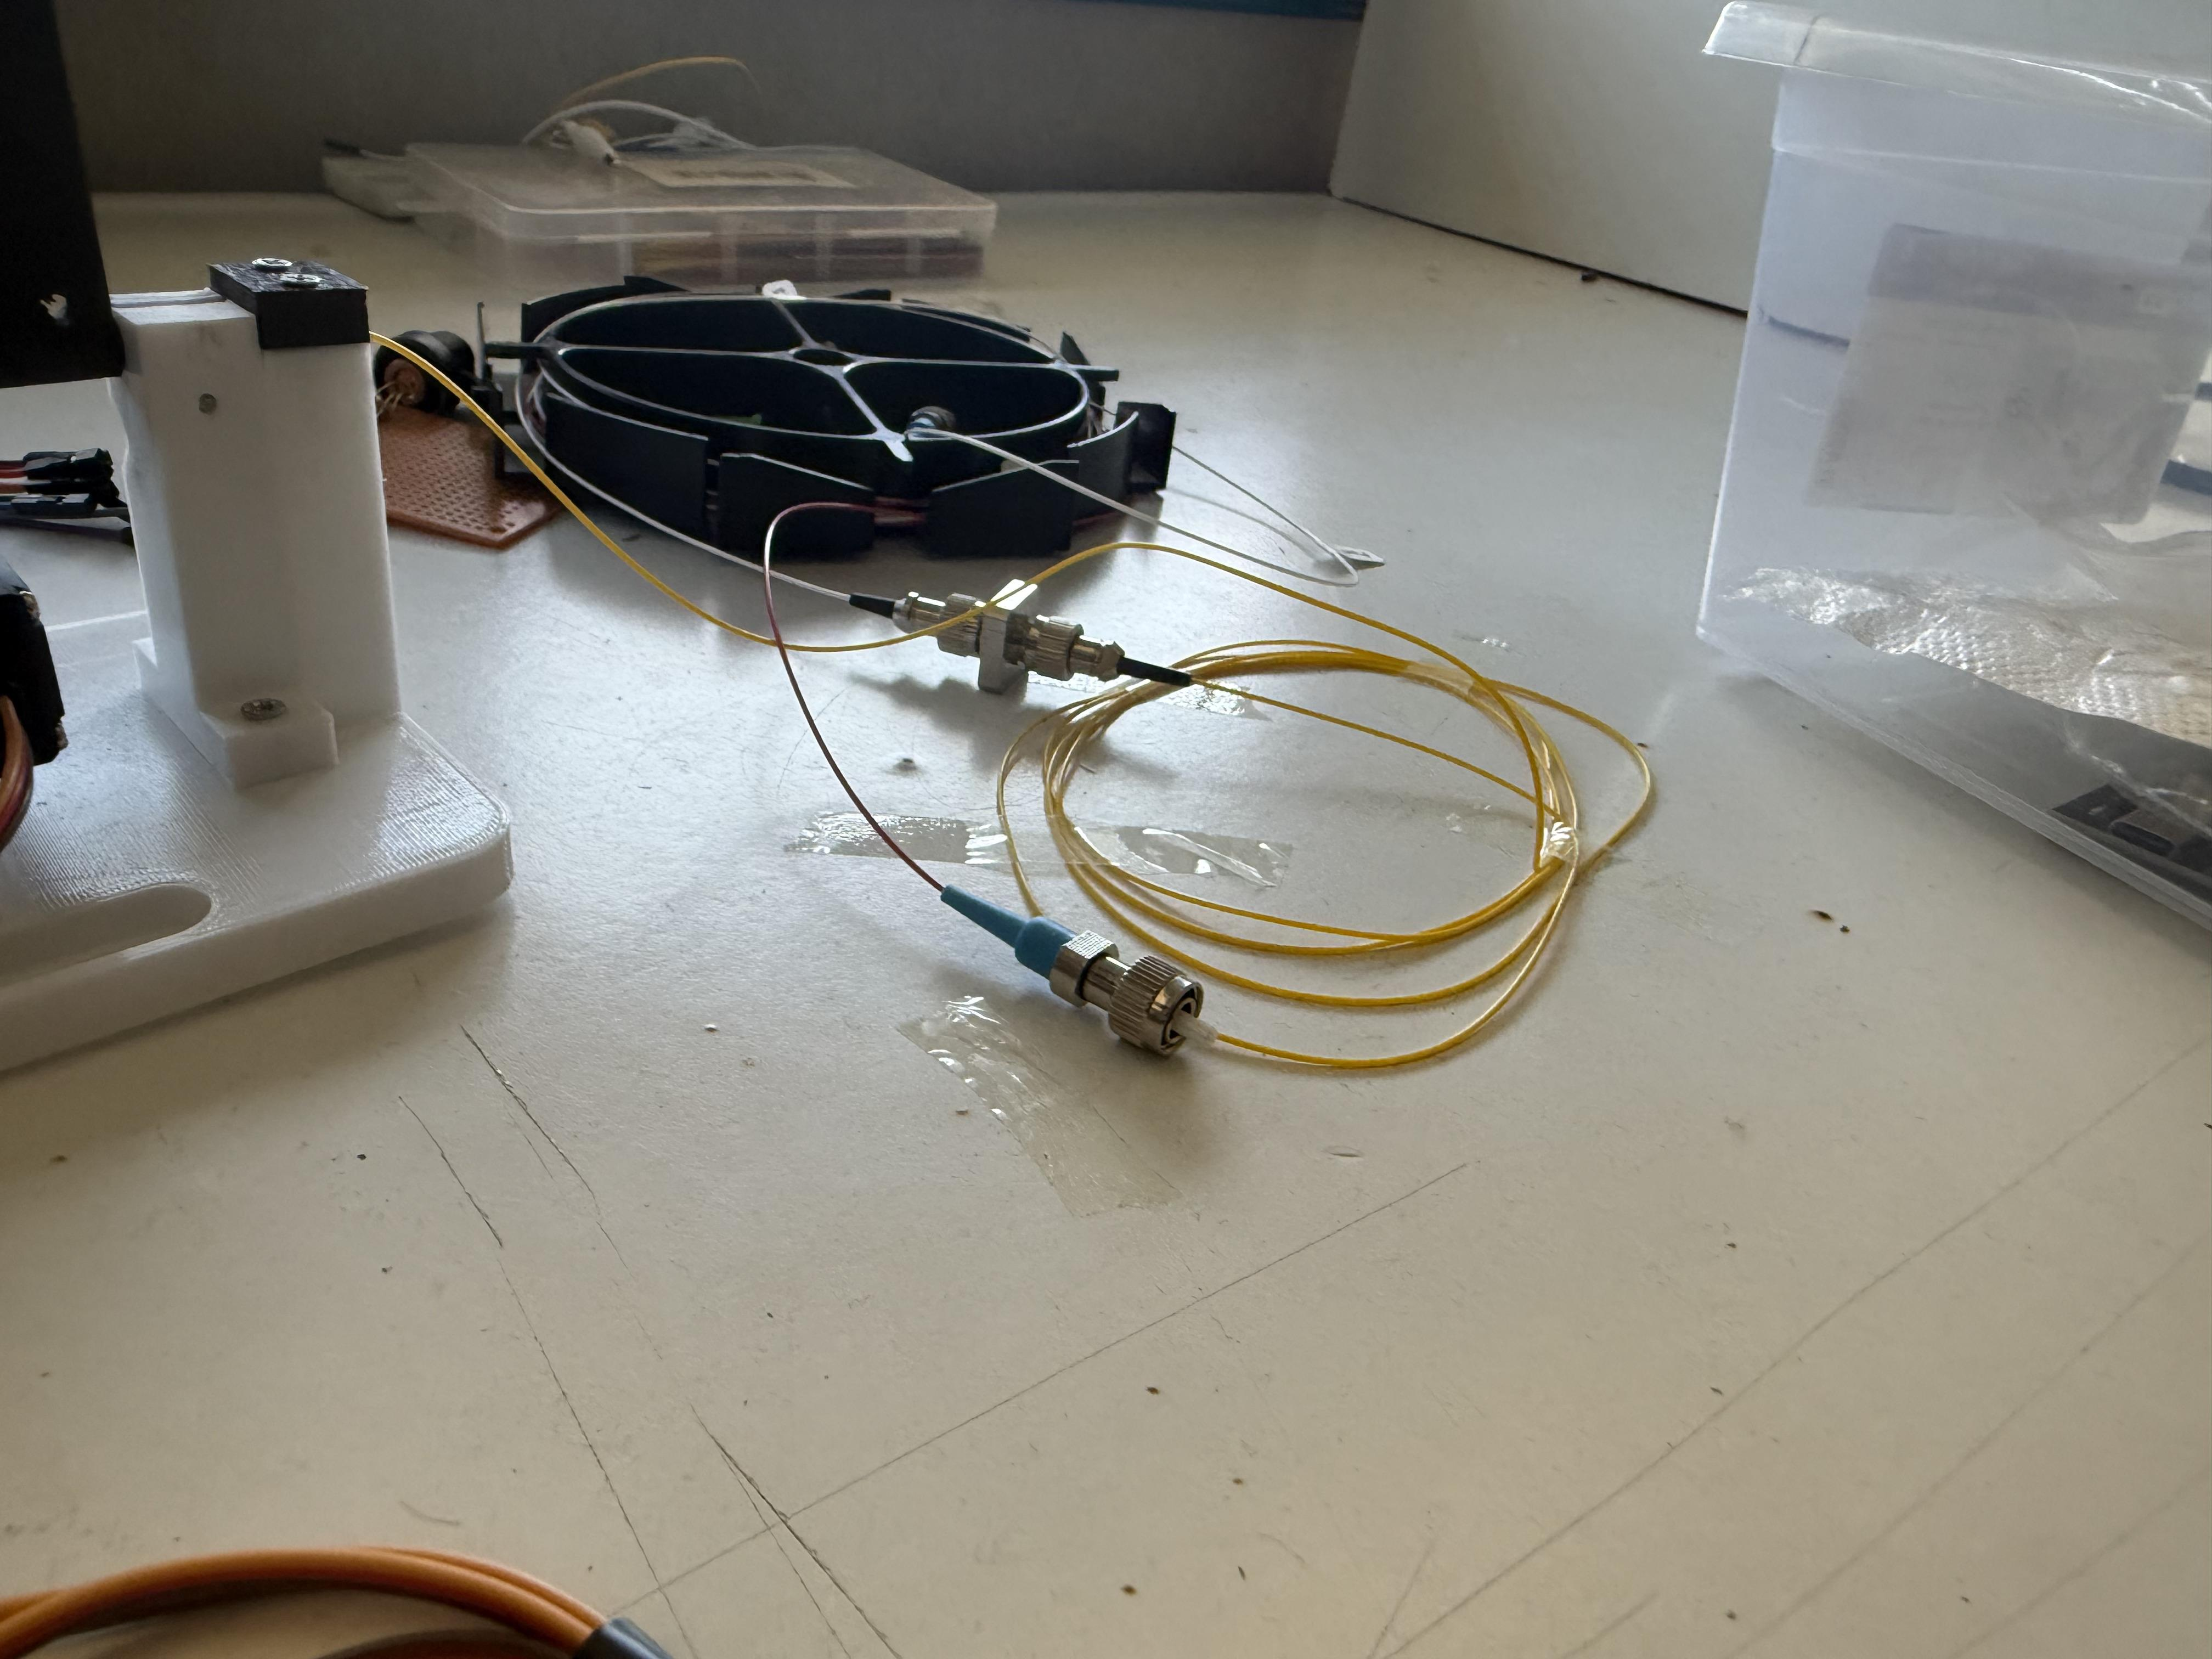fiber_cable: (946, 598, 1728, 1131)
